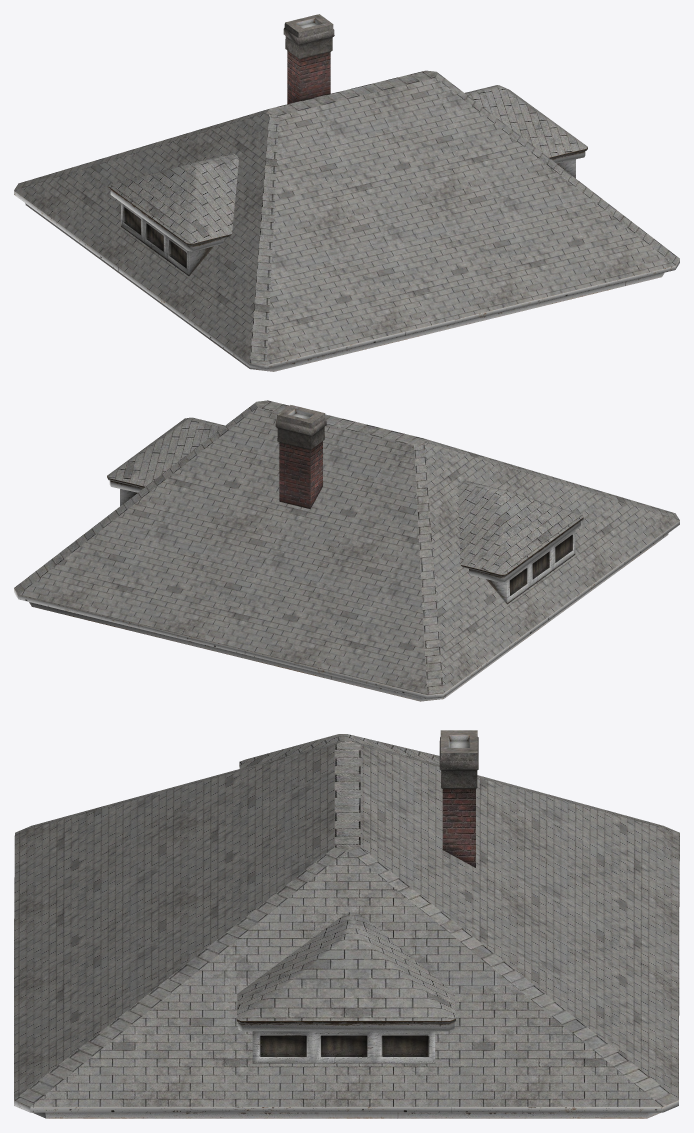
Rendered from Roof_farm_house.FBX.
The picture shows the model from 3 angles, top to bottom: view 1: azimuth 30°, elevation 25°; view 2: azimuth 150°, elevation 25°; view 3: azimuth 270°, elevation 25°; orthographic projection. The views are drawn at different scales.
Parts seen in each view (by area): view 1: house; view 2: house; view 3: house.
Boxes of the visible parts, x1,y1,x2,y2 form: house: (14, 14, 679, 371); house: (14, 400, 679, 701); house: (14, 730, 679, 1118).
Bounding box in the file's own units: 833 × 336 × 834.
2 materials, 2 textured.
